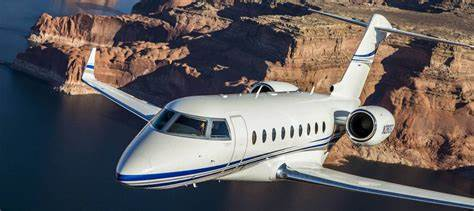Aeronef_commercial: (72, 4, 474, 211)
